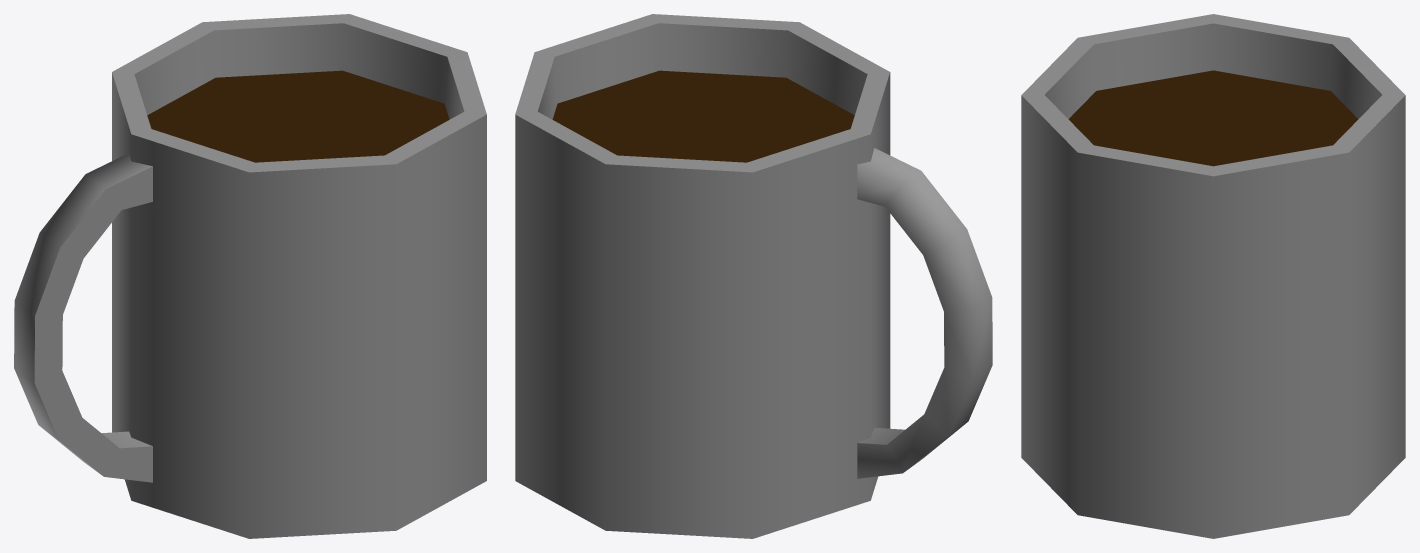
The model's file is CoffeeMug_01_snaps001.fbx.
3 views of the same model, side by side, from view 1: azimuth 30°, elevation 25°; view 2: azimuth 150°, elevation 25°; view 3: azimuth 270°, elevation 25° (orthographic).
Parts seen in each view (by area): view 1: CoffeeMug_01_snaps001; view 2: CoffeeMug_01_snaps001; view 3: CoffeeMug_01_snaps001.
Boxes of the visible parts, box(x1,y1,x2,y2) form: CoffeeMug_01_snaps001: box(14, 14, 486, 538); CoffeeMug_01_snaps001: box(515, 14, 992, 538); CoffeeMug_01_snaps001: box(1021, 14, 1405, 538).
Size of the model in its own units: 15.9 by 12.51 by 12.
